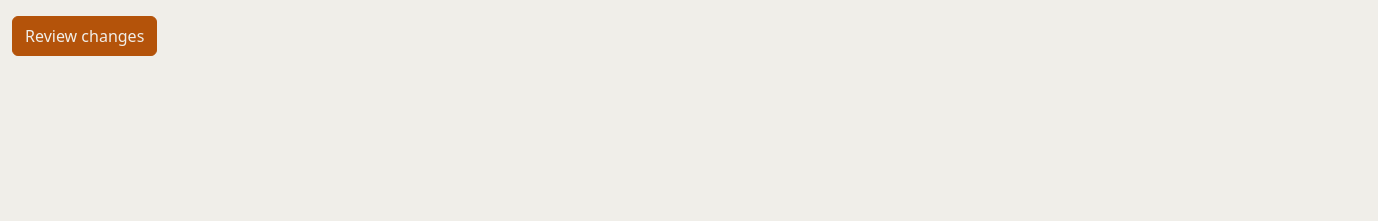
Test case: Changes › says when the diff was cut
Click the button "Review changes": click(85, 36) 12,16 -> 157,56
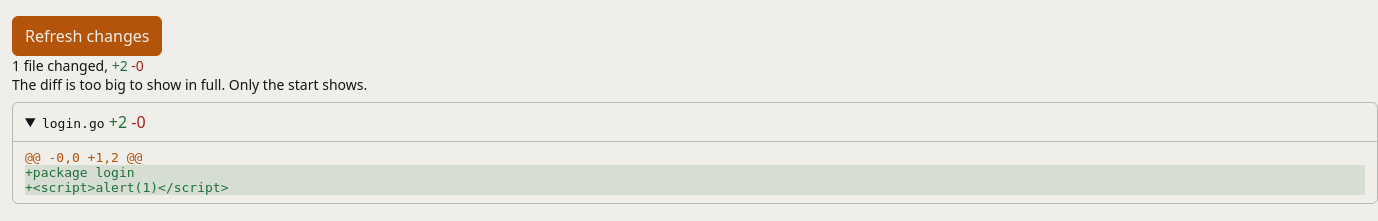
Expected: the text "The diff is too big to show in full. Only the start shows." is shown, 12,75 -> 367,94
